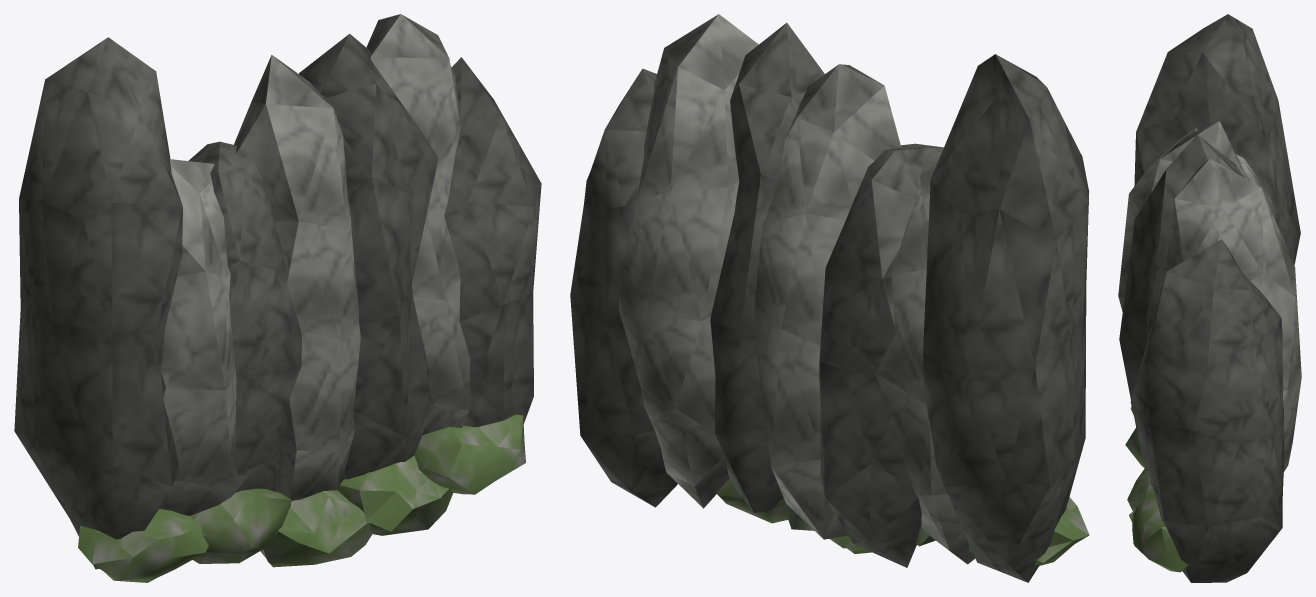
Rendered from SM_Cliff_Face01.fbx.
3 views of the same model, side by side, from view 1: azimuth 30°, elevation 25°; view 2: azimuth 150°, elevation 25°; view 3: azimuth 270°, elevation 25° (orthographic). The views are drawn at different scales.
Visible parts, largest first — view 1: SM_Cliff_Face01; view 2: SM_Cliff_Face01; view 3: SM_Cliff_Face01.
Part boxes in pixels (x1,y1,x2,y2): SM_Cliff_Face01: [14, 14, 541, 582]; SM_Cliff_Face01: [570, 14, 1089, 582]; SM_Cliff_Face01: [1118, 14, 1301, 582].
Bounding box in the file's own units: 24.8 × 26.38 × 9.71.
1 material, 1 textured.
